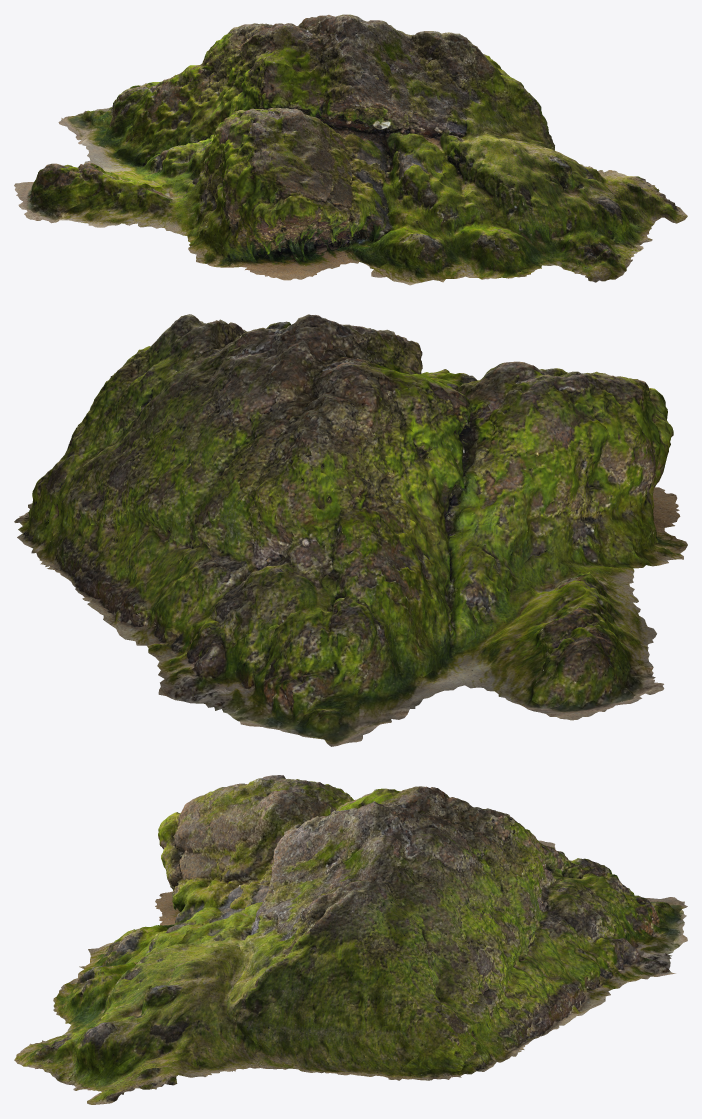
Rendered from mossy_beach_boulder_photoscan.obj.
3 renders of one model, top to bottom at view 1: azimuth 30°, elevation 25°; view 2: azimuth 150°, elevation 25°; view 3: azimuth 270°, elevation 25°, orthographic. The views are drawn at different scales.
Parts seen in each view (by area): view 1: obj1, obj2; view 2: obj1, obj2; view 3: obj1, obj2.
Part boxes in pixels (box(x1,y1,x2,y2)): obj1: box(14, 15, 687, 285); obj2: box(85, 14, 687, 279); obj1: box(14, 314, 687, 746); obj2: box(76, 319, 656, 661); obj1: box(14, 775, 687, 1104); obj2: box(53, 808, 535, 1104).
Bounding box in the file's own units: 17.03 × 5.65 × 17.47.
1 material, 1 textured.
